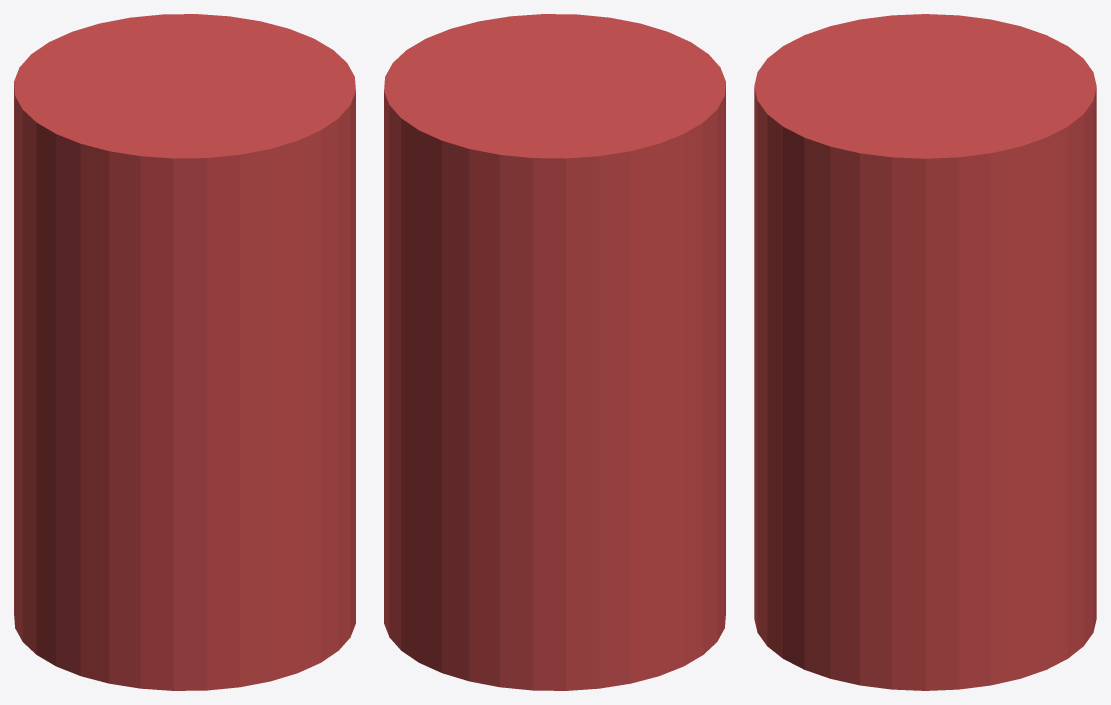
File: cokeCan.dae
3 renders of one model, left to right at view 1: azimuth 30°, elevation 25°; view 2: azimuth 150°, elevation 25°; view 3: azimuth 270°, elevation 25°, orthographic.
Parts seen in each view (by area): view 1: Cylinder; view 2: Cylinder; view 3: Cylinder.
Boxes of the visible parts, bbox=[...] form: Cylinder: bbox=[14, 14, 355, 690]; Cylinder: bbox=[384, 14, 725, 690]; Cylinder: bbox=[754, 14, 1096, 690].
Bounding box in the file's own units: 0.07 × 0.07 × 0.12.
